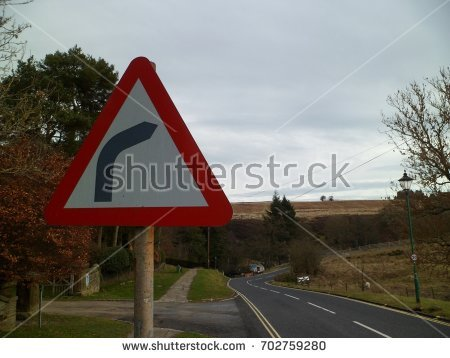Bend_to_right: (42, 55, 236, 228)
